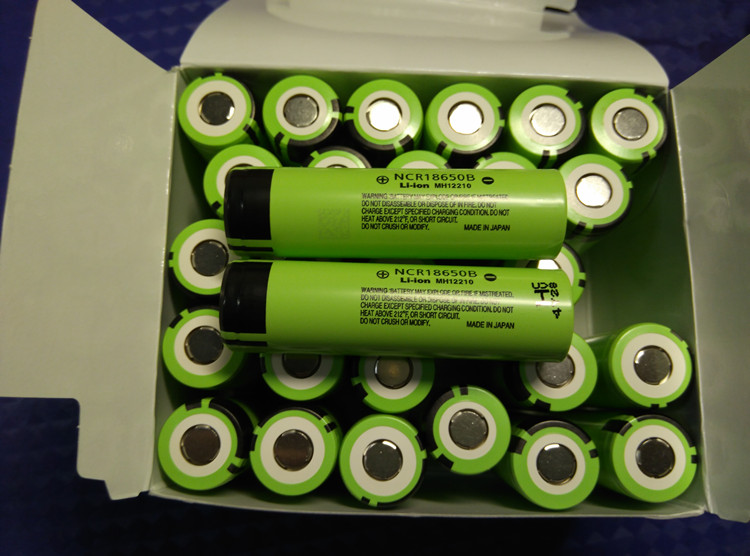Battery: (213, 260, 577, 368), (220, 163, 570, 262), (581, 411, 704, 509), (587, 320, 698, 414), (244, 402, 345, 501)
